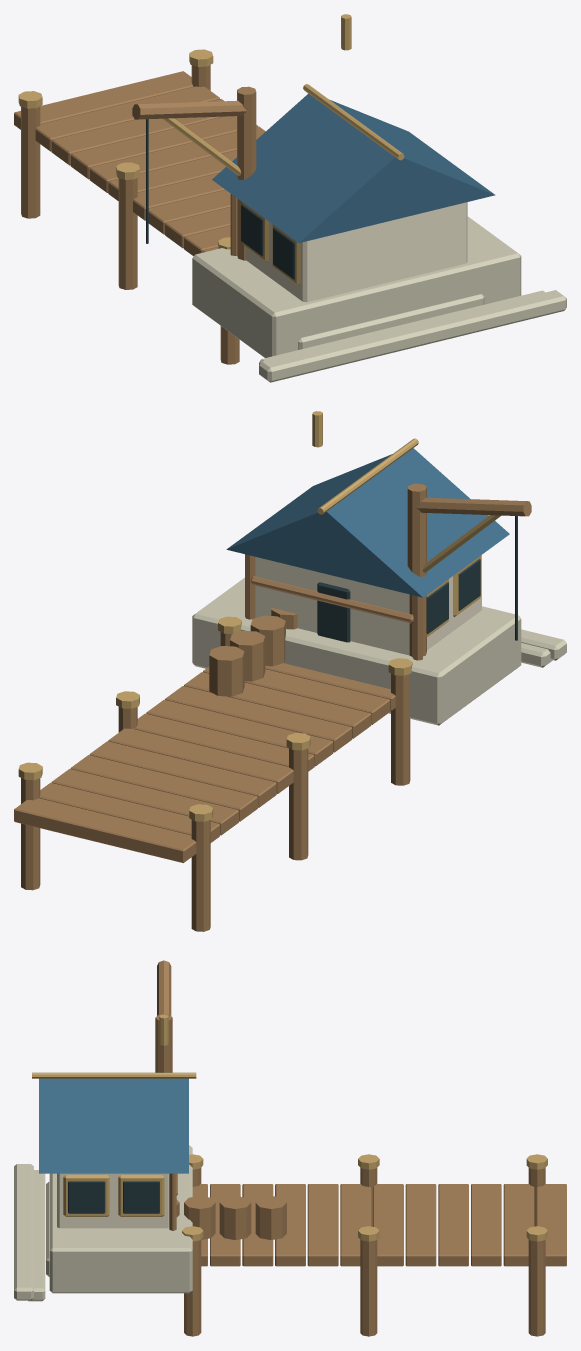
The model's file is level_16.glb.
The picture shows the model from 3 angles, top to bottom: view 1: azimuth 30°, elevation 25°; view 2: azimuth 150°, elevation 25°; view 3: azimuth 270°, elevation 25°; orthographic projection. The views are drawn at different scales.
Parts seen in each view (by area): view 1: fishing_wharf — level 16; view 2: fishing_wharf — level 16; view 3: fishing_wharf — level 16.
Boxes of the visible parts, x1,y1,x2,y2 form: fishing_wharf — level 16: [14, 14, 566, 382]; fishing_wharf — level 16: [14, 411, 566, 931]; fishing_wharf — level 16: [14, 960, 566, 1336].
Bounding box in the file's own units: 4.84 × 4.43 × 7.74.
